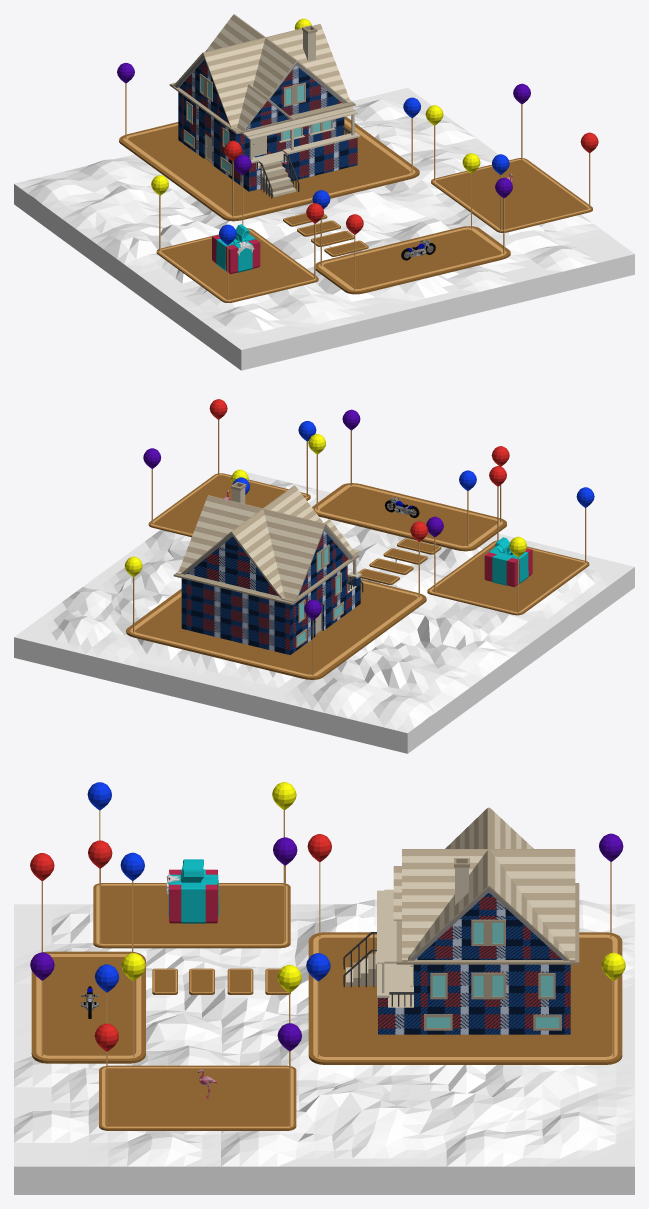
3 views of the same model, one above another, from view 1: azimuth 30°, elevation 25°; view 2: azimuth 150°, elevation 25°; view 3: azimuth 270°, elevation 25° (orthographic). The views are drawn at different scales.
Parts seen in each view (by area): view 1: Cube.013, Cube.171, OBJRANDOM_GIANT_PRESENT; view 2: Cube.013, Cube.171, OBJRANDOM_GIANT_PRESENT; view 3: Cube.013, Cube.171, OBJRANDOM_GIANT_PRESENT.
Part boxes in pixels (<box>): Cube.013: <box>14,18,634,370</box>; Cube.171: <box>169,14,360,198</box>; OBJRANDOM_GIANT_PRESENT: <box>212,224,260,274</box>; Cube.013: <box>14,399,634,753</box>; Cube.171: <box>173,482,363,654</box>; OBJRANDOM_GIANT_PRESENT: <box>484,537,532,587</box>; Cube.013: <box>14,782,634,1194</box>; Cube.171: <box>343,807,579,1034</box>; OBJRANDOM_GIANT_PRESENT: <box>166,859,218,923</box>.
Size of the model in its own units: 4000 by 1696 by 4000.
29 materials, 2 textured.
